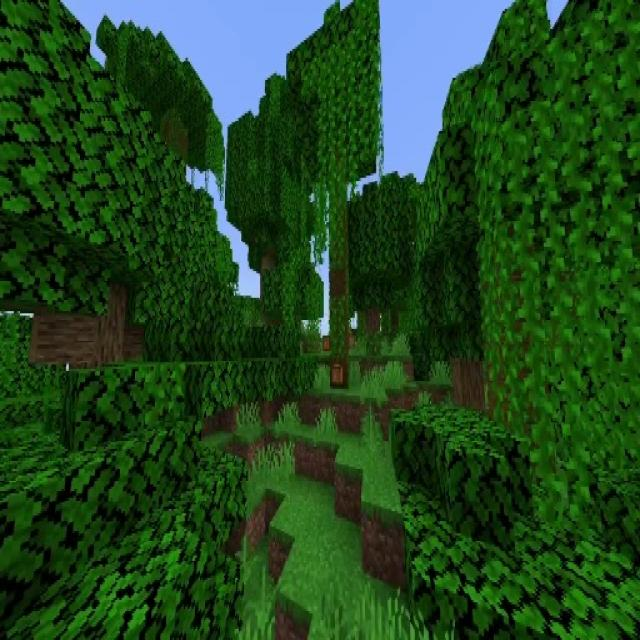jungle: (288, 0, 382, 385)
jungle_log: (328, 190, 349, 390)
oak_log: (95, 289, 128, 359), (456, 362, 483, 415)
